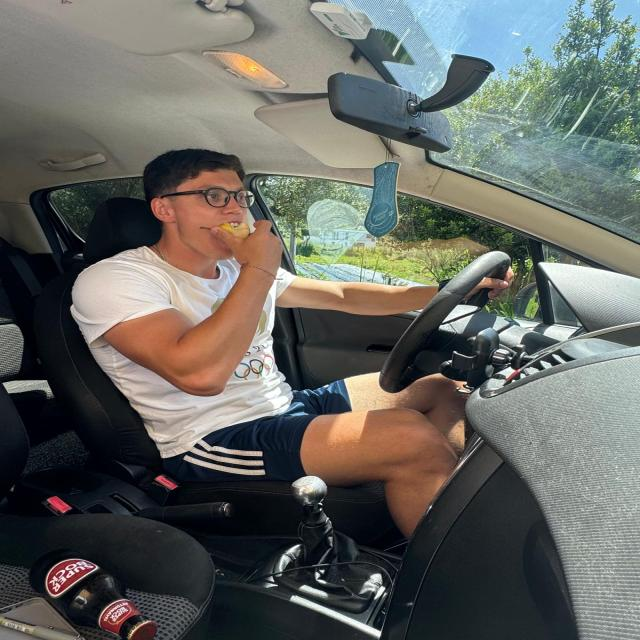Eating: (193, 214, 283, 256)
